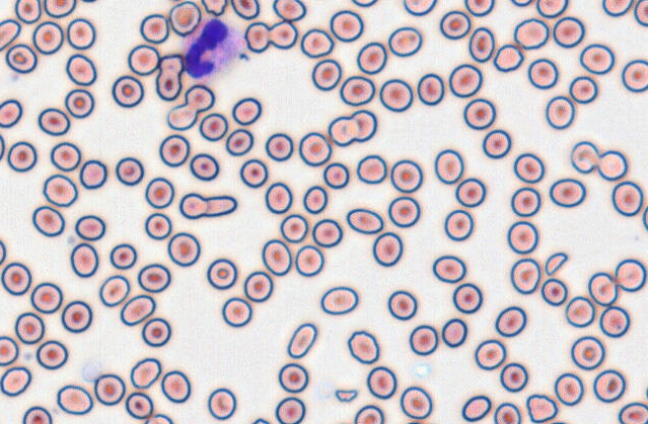GRAN: (178, 15, 245, 85)
RBC: (570, 335, 605, 370), (42, 173, 77, 207), (168, 0, 201, 36), (261, 238, 292, 276), (592, 369, 626, 403), (448, 63, 482, 97), (379, 78, 413, 112), (298, 131, 331, 166), (167, 231, 200, 266), (513, 17, 549, 49), (611, 180, 643, 216), (56, 384, 93, 415), (320, 285, 358, 315), (329, 9, 363, 42), (390, 159, 423, 193), (399, 385, 432, 419), (120, 294, 155, 326), (347, 329, 379, 364), (339, 75, 375, 106), (372, 231, 403, 267), (286, 322, 317, 358), (510, 257, 540, 294), (549, 177, 586, 207), (506, 220, 538, 254), (614, 258, 646, 292), (587, 271, 618, 306), (387, 26, 422, 57), (579, 43, 614, 74), (434, 148, 464, 184), (127, 43, 160, 75), (98, 274, 130, 307), (111, 75, 144, 107), (552, 16, 585, 48), (158, 134, 190, 167), (32, 205, 65, 237), (463, 98, 496, 130), (32, 20, 63, 54), (553, 372, 584, 406), (160, 369, 191, 403), (366, 365, 397, 399), (93, 373, 125, 405), (494, 305, 526, 337), (311, 58, 342, 91), (65, 53, 96, 86), (356, 41, 387, 74), (443, 208, 474, 241), (387, 196, 420, 227), (599, 305, 630, 338), (61, 300, 92, 333), (300, 28, 334, 58), (1, 261, 31, 295), (137, 263, 171, 293), (545, 95, 575, 129), (70, 242, 99, 277), (346, 207, 383, 234), (564, 295, 595, 327), (36, 339, 68, 370), (597, 149, 628, 181), (130, 357, 161, 389), (474, 339, 506, 370), (30, 282, 62, 313), (527, 57, 558, 89), (570, 140, 600, 173), (432, 254, 466, 283), (468, 26, 495, 62), (327, 115, 358, 146), (0, 365, 31, 396), (221, 296, 252, 327), (513, 152, 544, 183), (510, 186, 541, 217), (206, 258, 237, 289), (5, 43, 37, 73), (14, 312, 44, 344), (243, 270, 273, 302), (294, 244, 324, 276), (454, 177, 486, 207), (144, 176, 174, 208), (452, 282, 482, 314), (7, 140, 37, 172), (37, 107, 70, 136), (207, 387, 236, 420), (139, 13, 169, 44), (356, 154, 387, 184), (50, 141, 81, 171), (387, 289, 417, 320), (278, 362, 308, 393), (408, 324, 438, 355), (66, 17, 95, 49), (439, 10, 471, 39), (349, 109, 377, 142), (264, 181, 292, 214), (416, 72, 444, 105), (64, 88, 94, 118), (141, 317, 171, 347), (184, 83, 215, 112), (493, 43, 524, 72), (311, 218, 342, 247), (482, 128, 511, 159), (621, 58, 647, 92), (189, 152, 219, 181), (239, 158, 268, 188), (198, 112, 228, 141), (499, 362, 528, 392), (279, 213, 308, 243), (231, 96, 261, 125), (568, 75, 598, 104), (115, 156, 144, 186), (155, 68, 181, 101), (268, 20, 297, 49), (461, 394, 491, 422), (79, 159, 107, 189), (166, 103, 197, 130), (274, 396, 305, 423), (74, 214, 105, 241), (244, 21, 270, 53), (265, 132, 293, 161), (441, 317, 467, 348), (125, 391, 153, 419), (225, 128, 253, 156), (540, 278, 567, 306), (144, 212, 171, 240), (302, 185, 328, 214), (322, 162, 349, 189), (179, 192, 207, 218), (109, 243, 137, 269), (272, 0, 306, 21), (204, 195, 237, 216), (0, 18, 21, 51), (617, 401, 647, 423), (0, 98, 22, 128), (14, 0, 41, 24), (535, 0, 568, 18), (43, 0, 76, 18), (0, 335, 19, 366), (353, 404, 384, 423), (493, 402, 521, 423), (230, 0, 259, 20), (158, 53, 184, 74), (403, 0, 436, 16), (602, 0, 633, 17), (22, 406, 52, 423), (464, 0, 494, 16), (201, 0, 227, 16), (633, 0, 647, 26), (411, 360, 431, 378), (144, 413, 173, 423), (351, 0, 378, 7), (509, 0, 533, 7), (642, 204, 648, 231), (0, 239, 6, 264), (404, 419, 432, 424), (0, 133, 5, 161), (251, 417, 271, 423), (332, 419, 353, 424), (545, 420, 570, 424), (80, 0, 98, 3), (645, 385, 648, 402)
Schistocyte: (545, 252, 568, 276), (333, 389, 359, 402)
